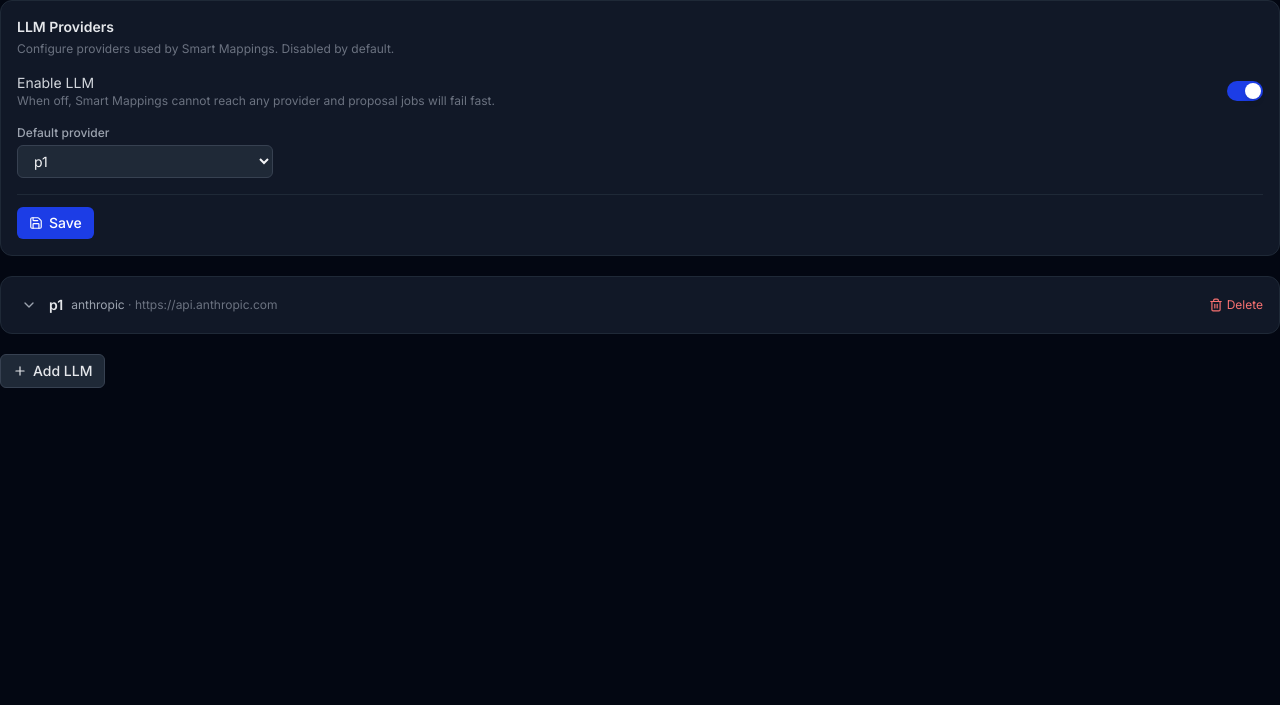
Test: ProviderCard (027 step 5: Discover-then-Probe per-card surface) › Anthropic kind keeps the free-text model input (no dropdown) without available_models
Click the button named "Expand p1": (29,305) [17, 293, 41, 317]
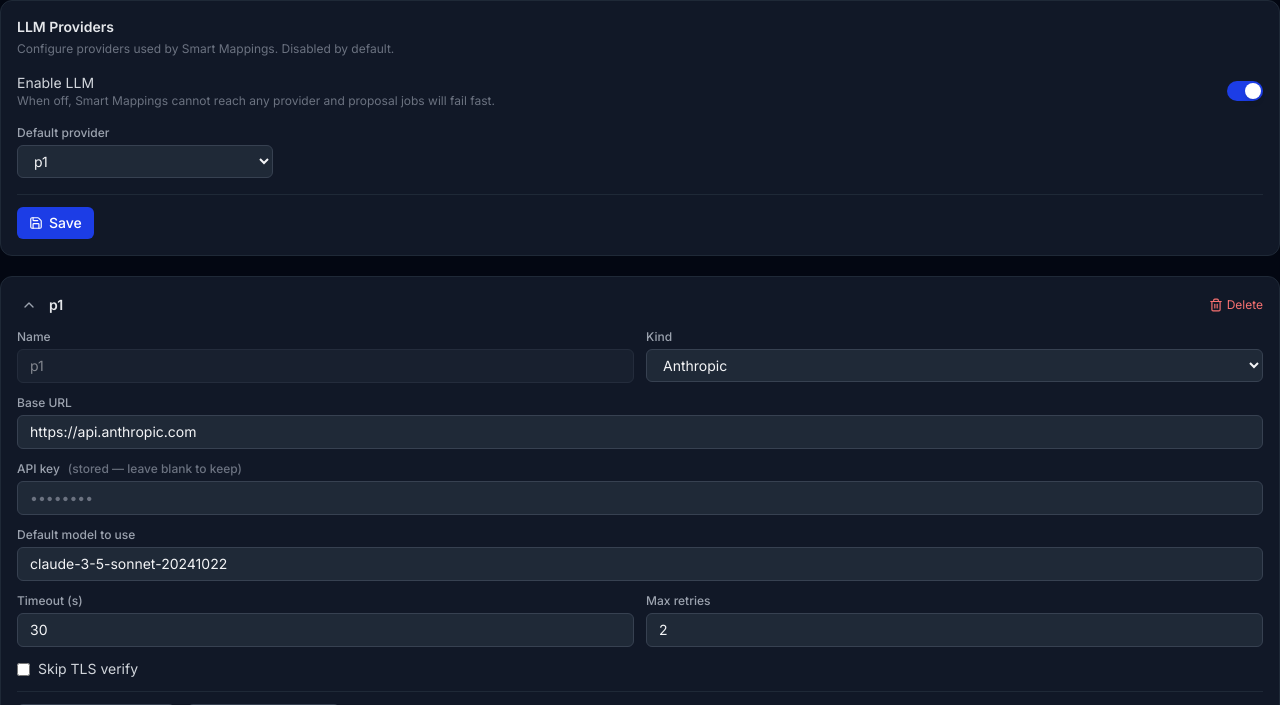
Expected: the field labelled "Default model to use" holds "claude-3-5-sonnet-20241022", [17, 547, 1263, 581]
